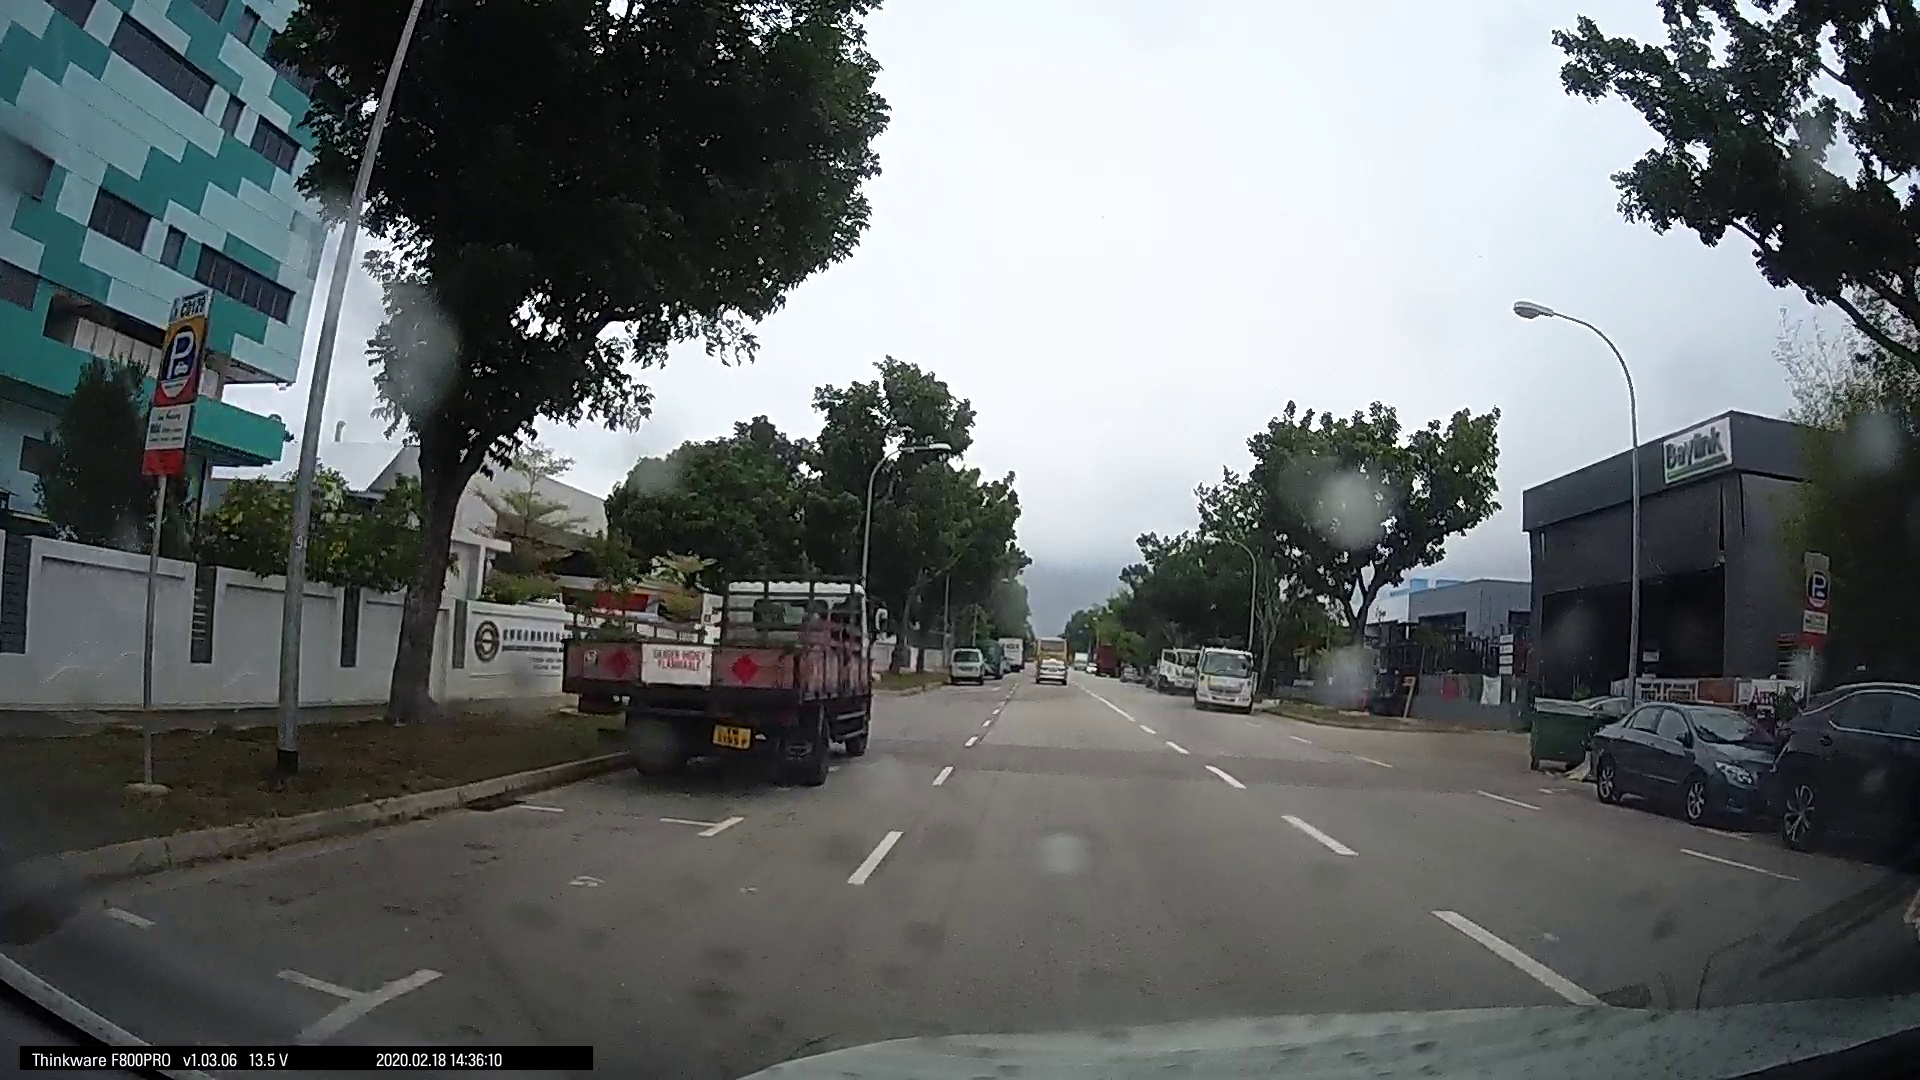Heavy Vehicle: (574, 564, 880, 777)
Light Vehicle: (1768, 680, 1917, 853), (1584, 698, 1785, 822), (1182, 644, 1257, 711), (944, 640, 992, 684), (1027, 642, 1068, 683)
